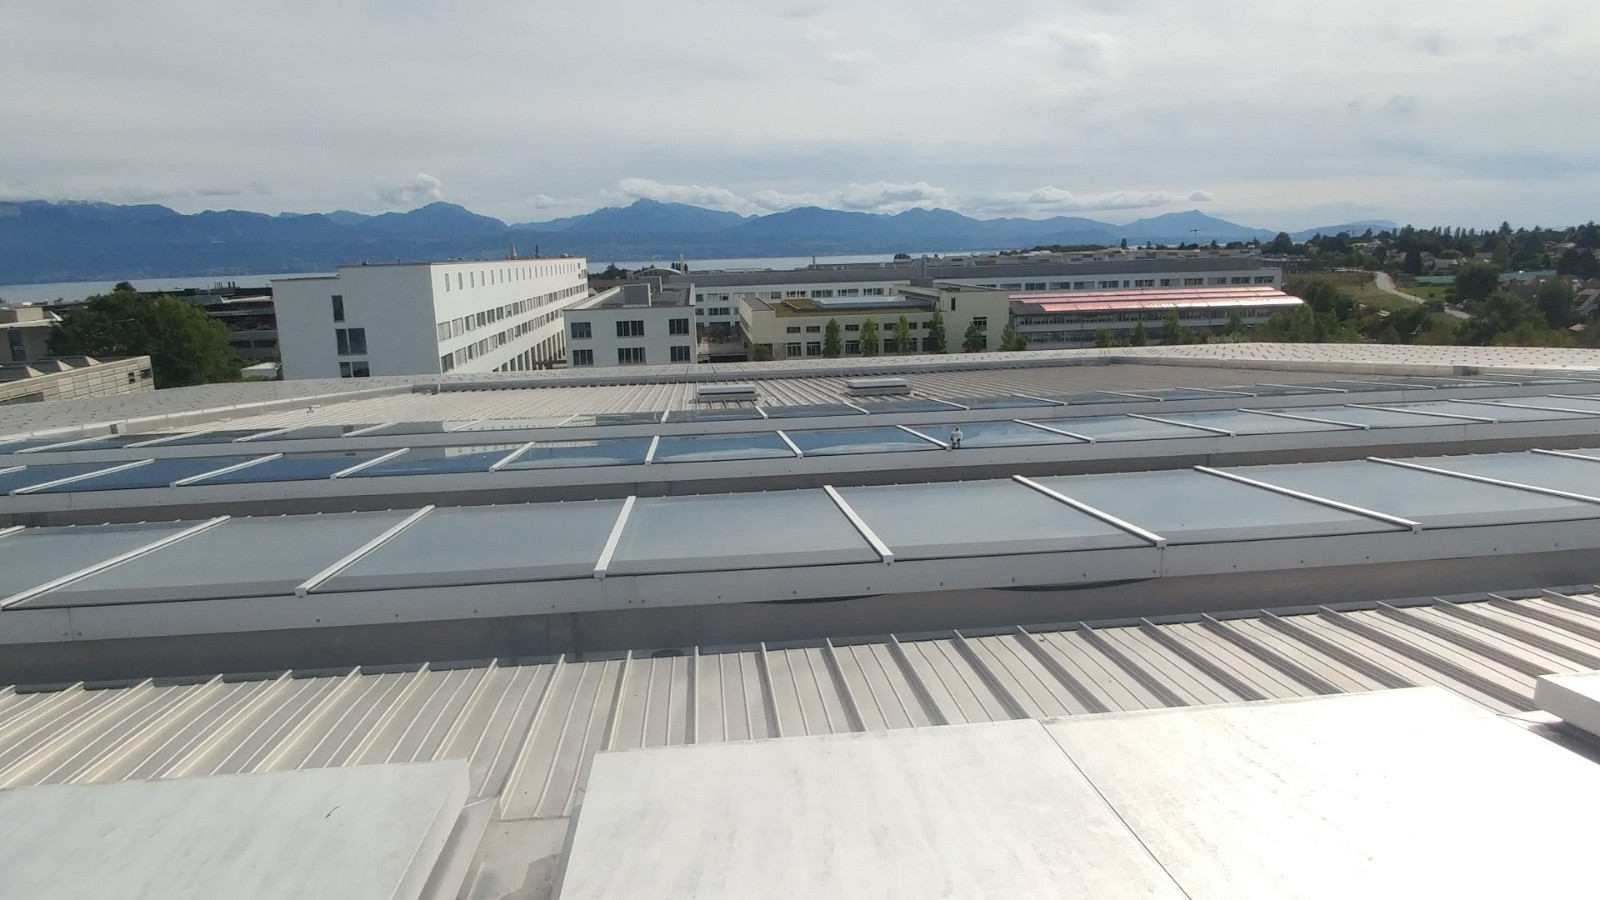Pigeon: (949, 424, 966, 451)
